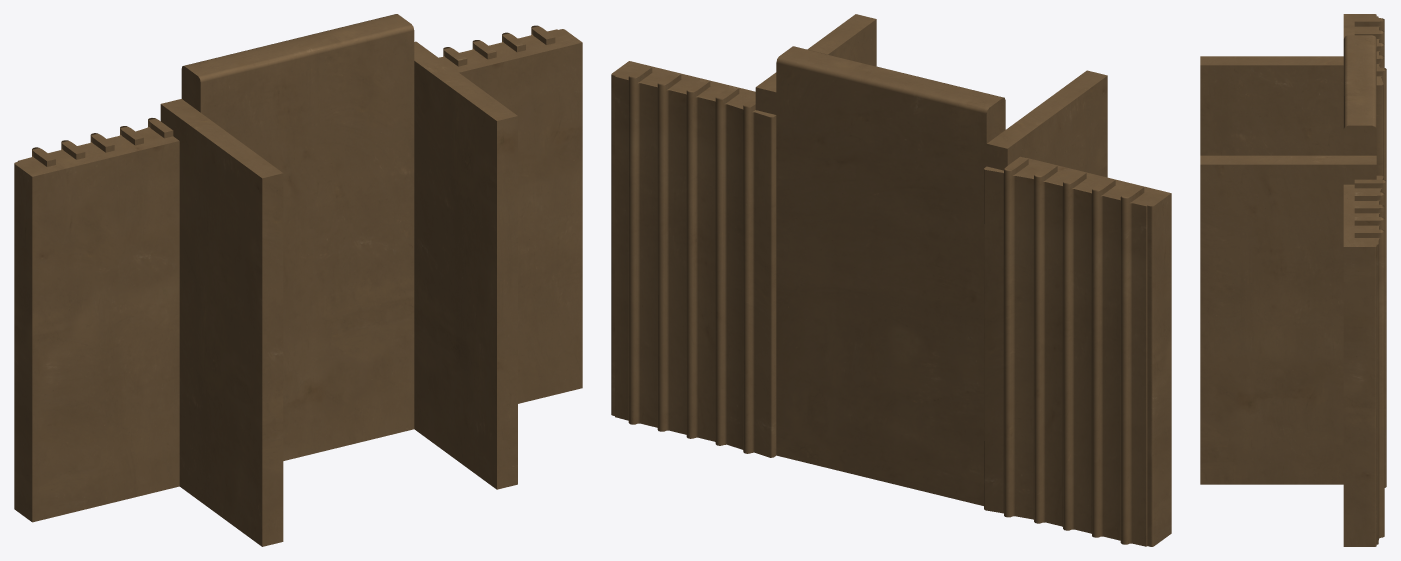
The model's file is SM_Building02WallRoof01R.fbx.
3 views of the same model, side by side, from view 1: azimuth 30°, elevation 25°; view 2: azimuth 150°, elevation 25°; view 3: azimuth 270°, elevation 25° (orthographic). The views are drawn at different scales.
Parts seen in each view (by area): view 1: SM_Building02WallRoof01R_LOD0; view 2: SM_Building02WallRoof01R_LOD0; view 3: SM_Building02WallRoof01R_LOD0.
Boxes of the visible parts, x1,y1,x2,y2 form: SM_Building02WallRoof01R_LOD0: [14, 14, 582, 546]; SM_Building02WallRoof01R_LOD0: [611, 14, 1171, 546]; SM_Building02WallRoof01R_LOD0: [1200, 14, 1386, 546].
Bounding box in the file's own units: 500 × 169 × 350.
2 materials, 2 textured.
